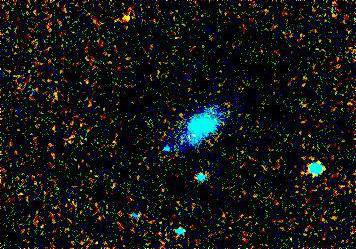star: (113, 2, 143, 32)
